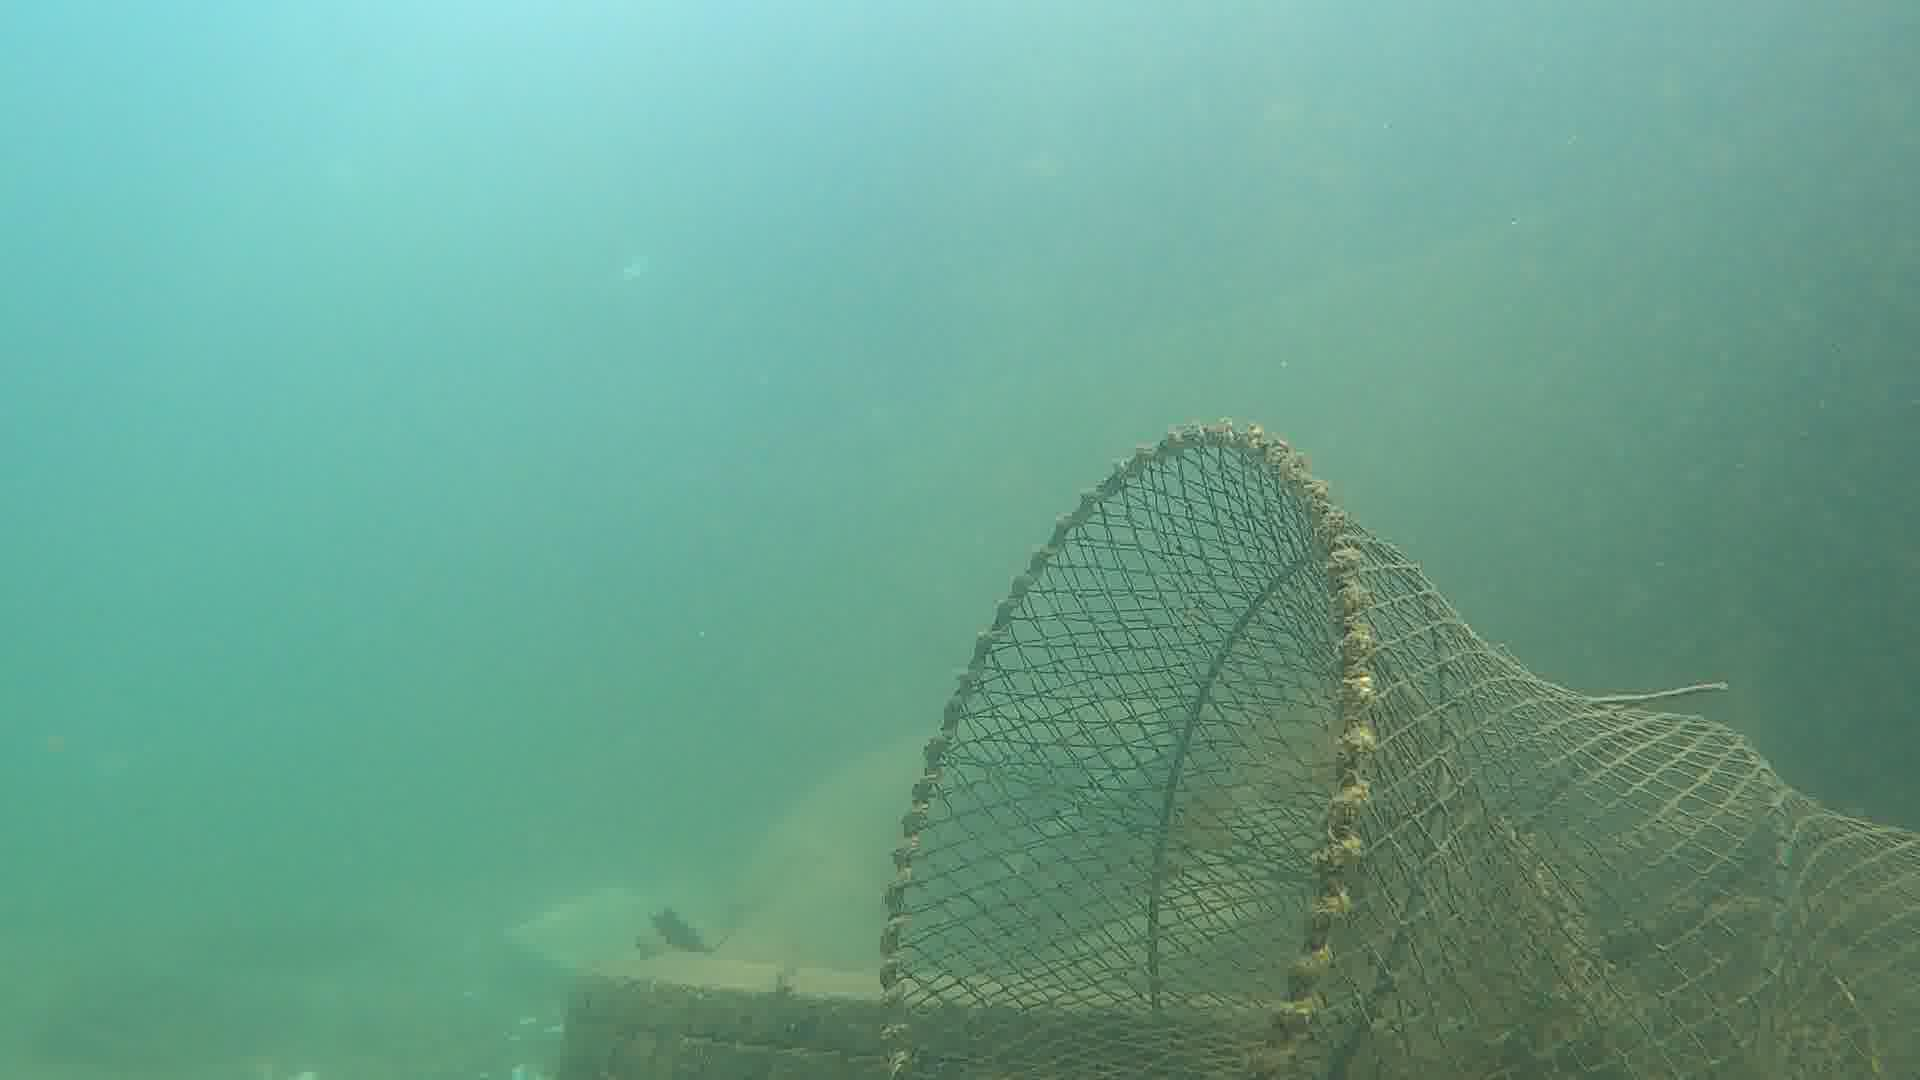spring fish trap: (876, 411, 1920, 1080)
